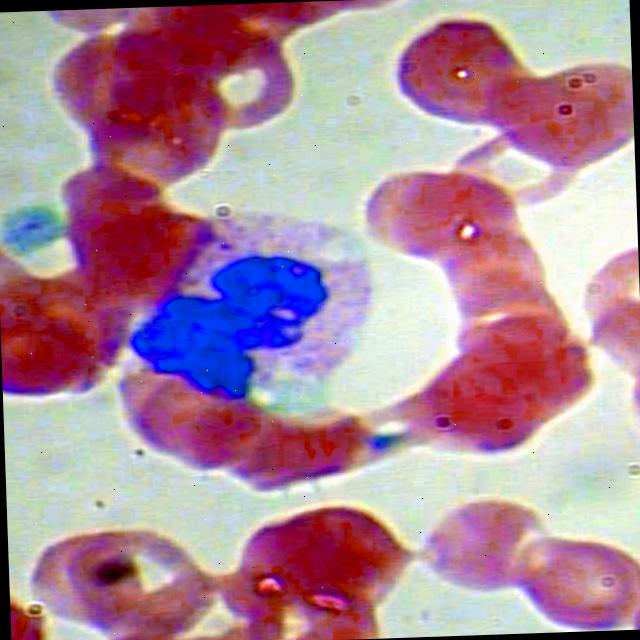RBC: (155, 16, 304, 146), (75, 71, 224, 201), (27, 21, 176, 151), (65, 519, 214, 640), (388, 6, 532, 130), (435, 108, 583, 225), (490, 50, 635, 167), (15, 516, 156, 628), (408, 488, 549, 598), (504, 523, 640, 634), (386, 182, 534, 277), (349, 162, 498, 256), (405, 204, 554, 298), (420, 238, 569, 332), (0, 276, 96, 402), (570, 242, 640, 330), (581, 285, 640, 371)
WBC: (118, 190, 384, 393)
